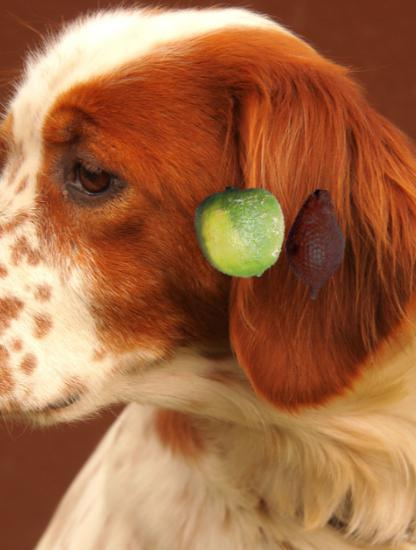Limes: (194, 185, 289, 280)
Salak: (260, 189, 371, 300)
